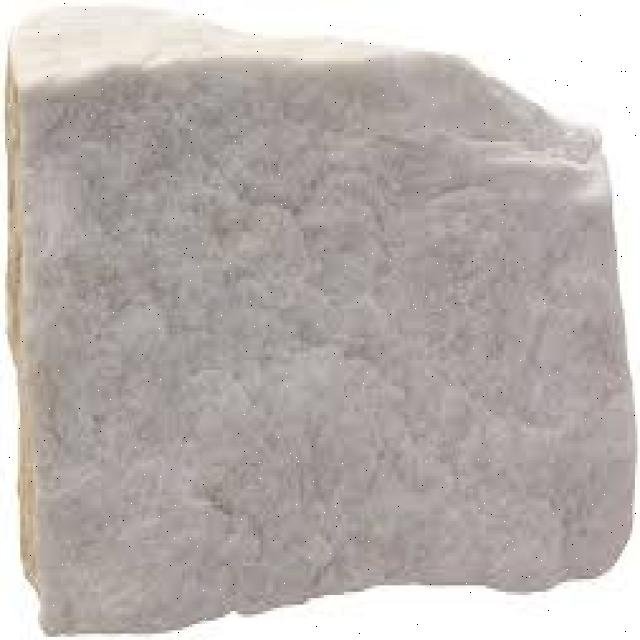Metamorphic: (5, 6, 632, 611)
